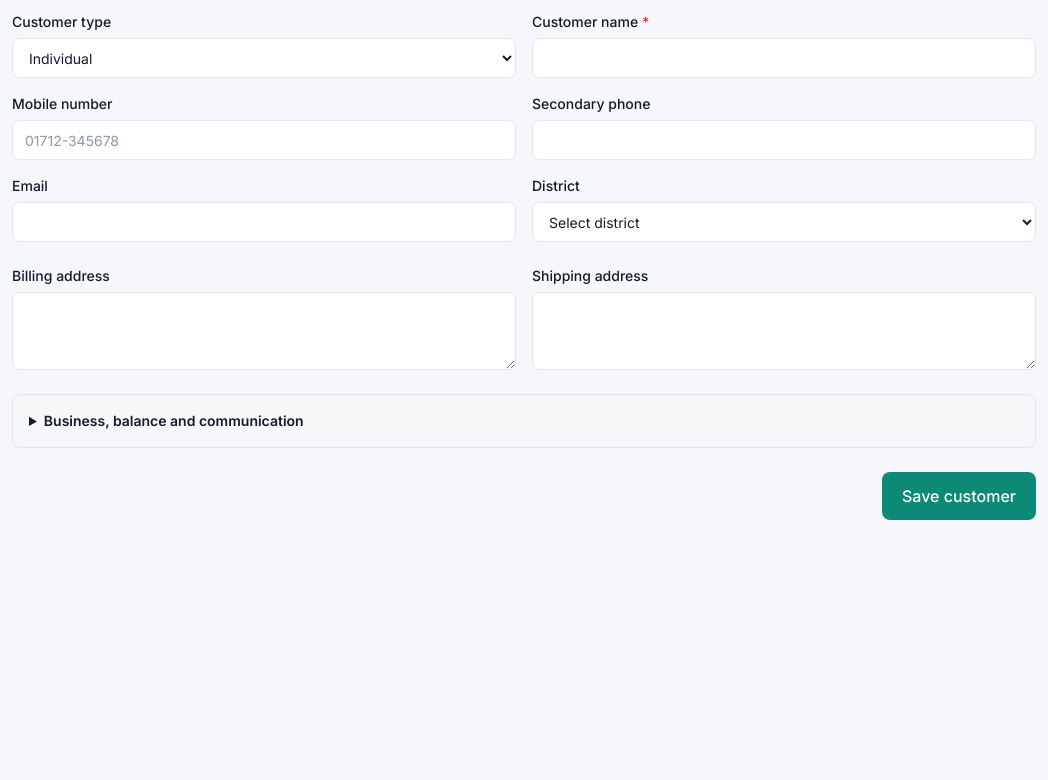
CustomerForm › maps server field errors onto inputs
This screenshot has width=1048, height=780.
Type "Karim" into the field labelled "Customer name *" at x=784, y=58, box 532,38 -> 1036,78
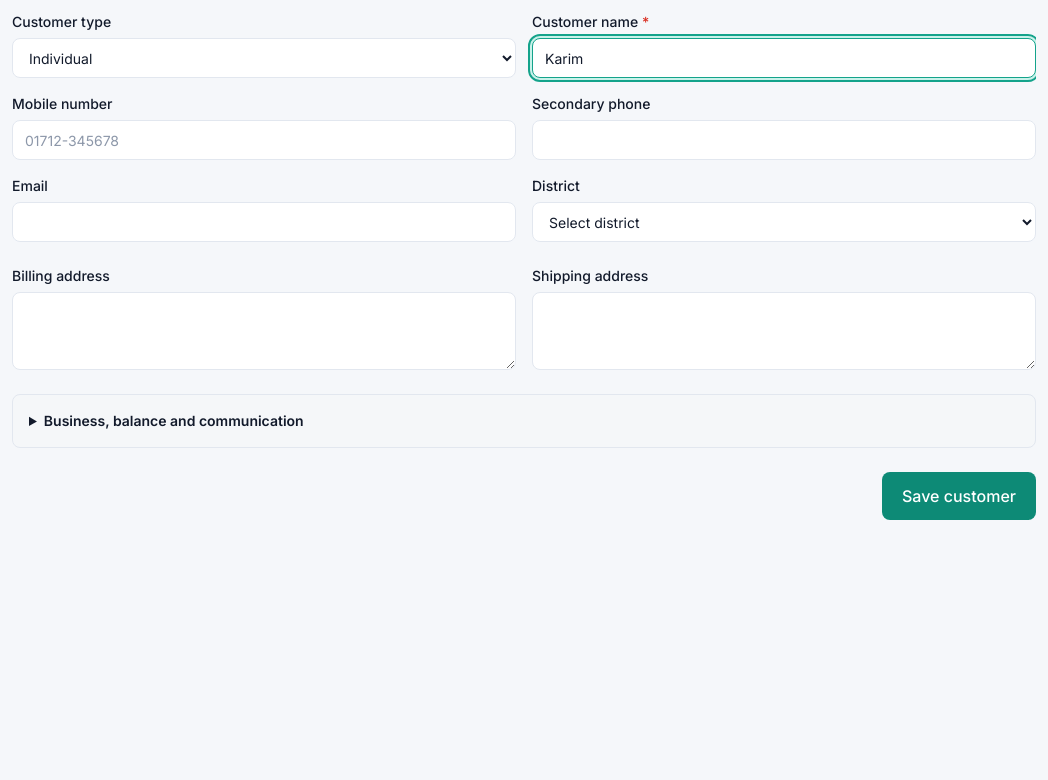
Click the button "Save customer" at x=959, y=496, box 882,472 -> 1036,520
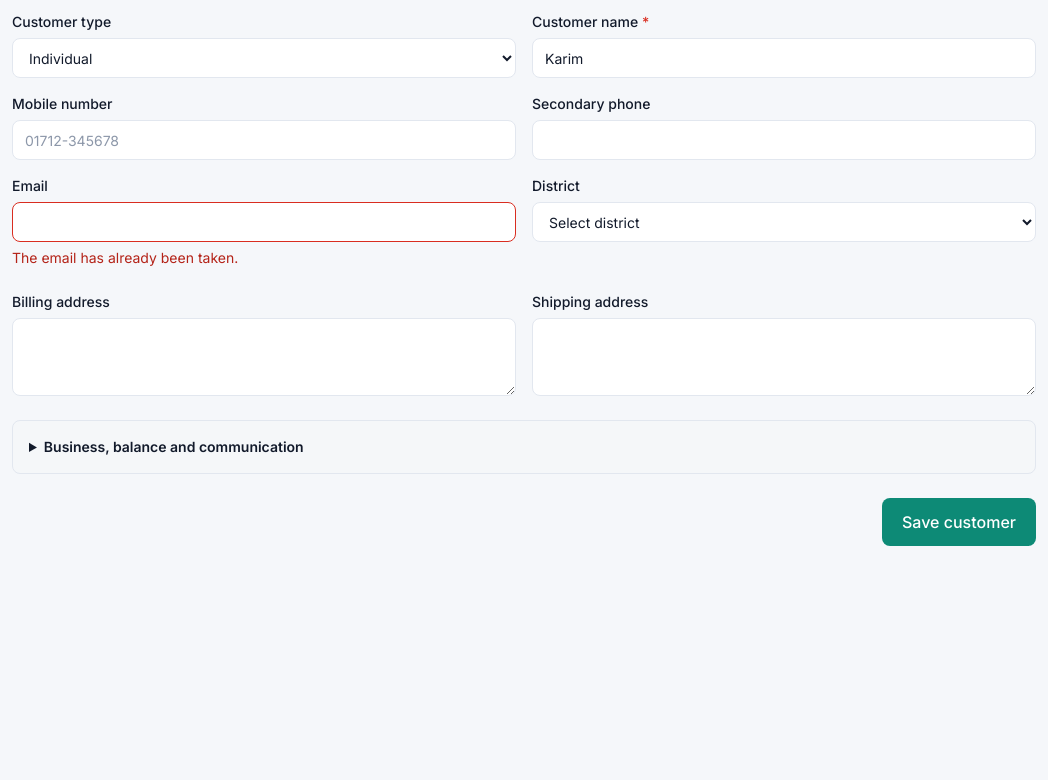
expect the text "The email has already been taken." is shown: met, box 12,249 -> 238,266
